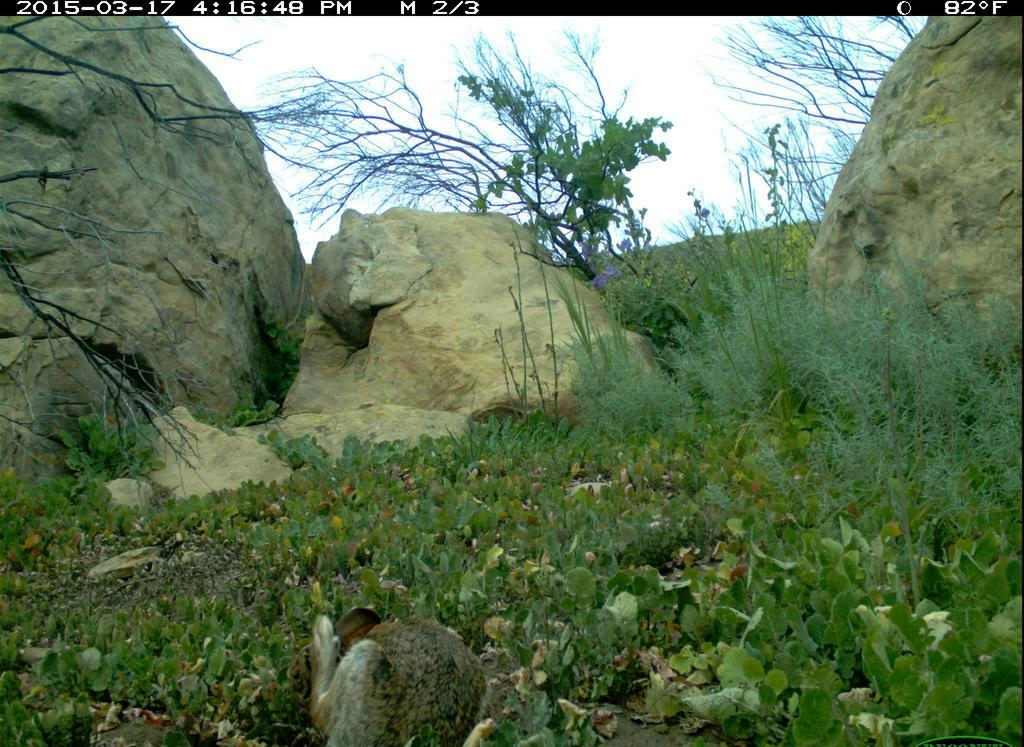rabbit: (300, 601, 496, 747)
